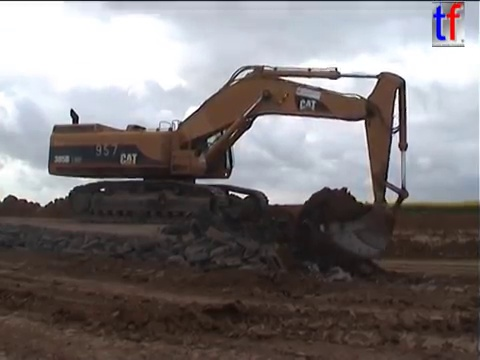excavator: (44, 61, 413, 263)
